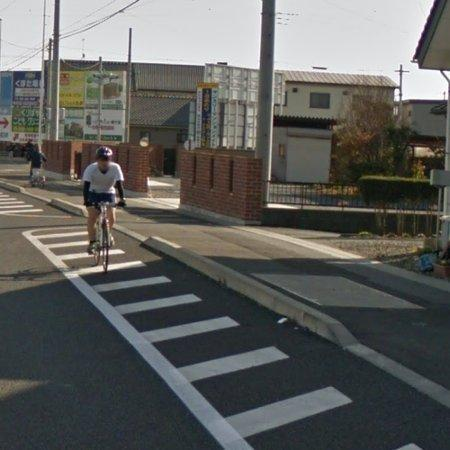bicycles: (94, 202, 111, 273)
